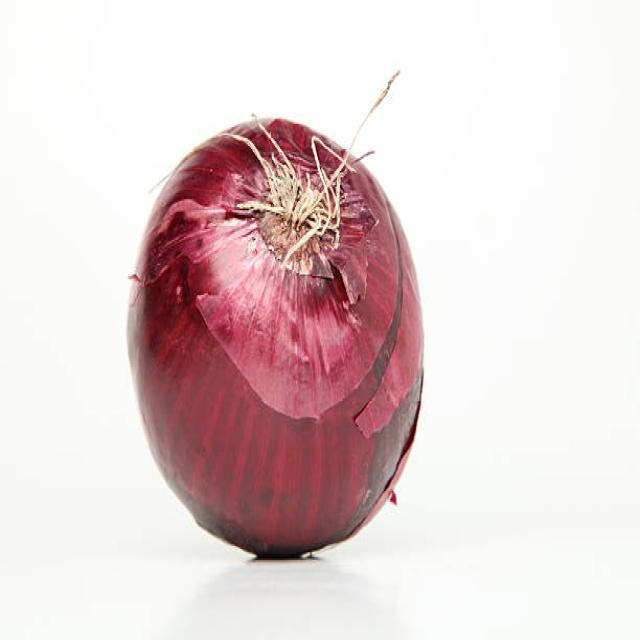onion: (126, 117, 430, 566)
